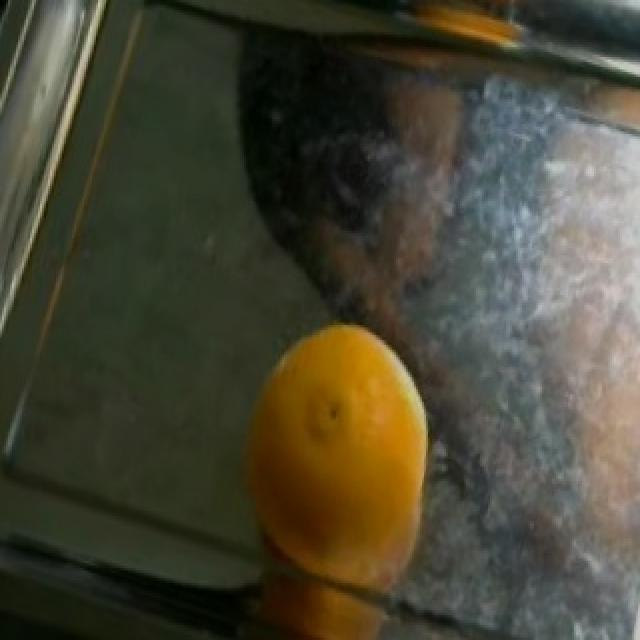Fruit: (212, 302, 460, 628)
